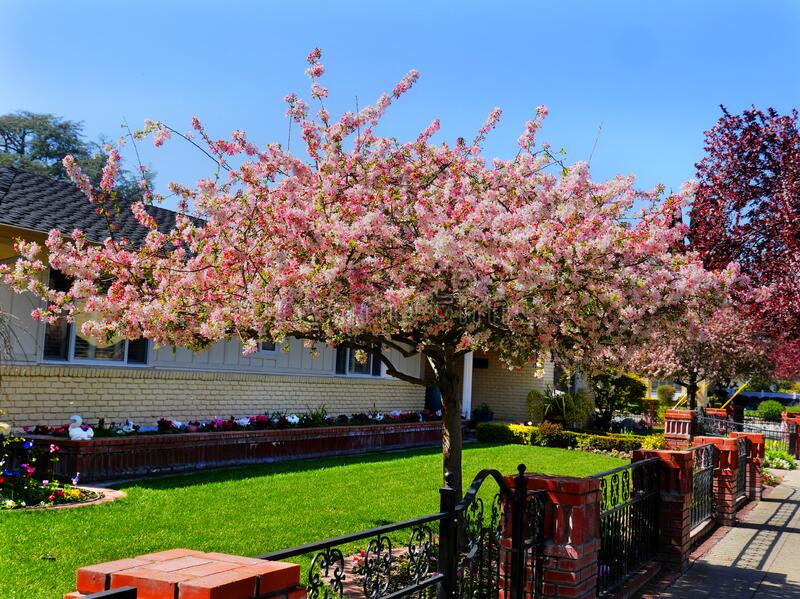tree: (36, 96, 767, 576)
